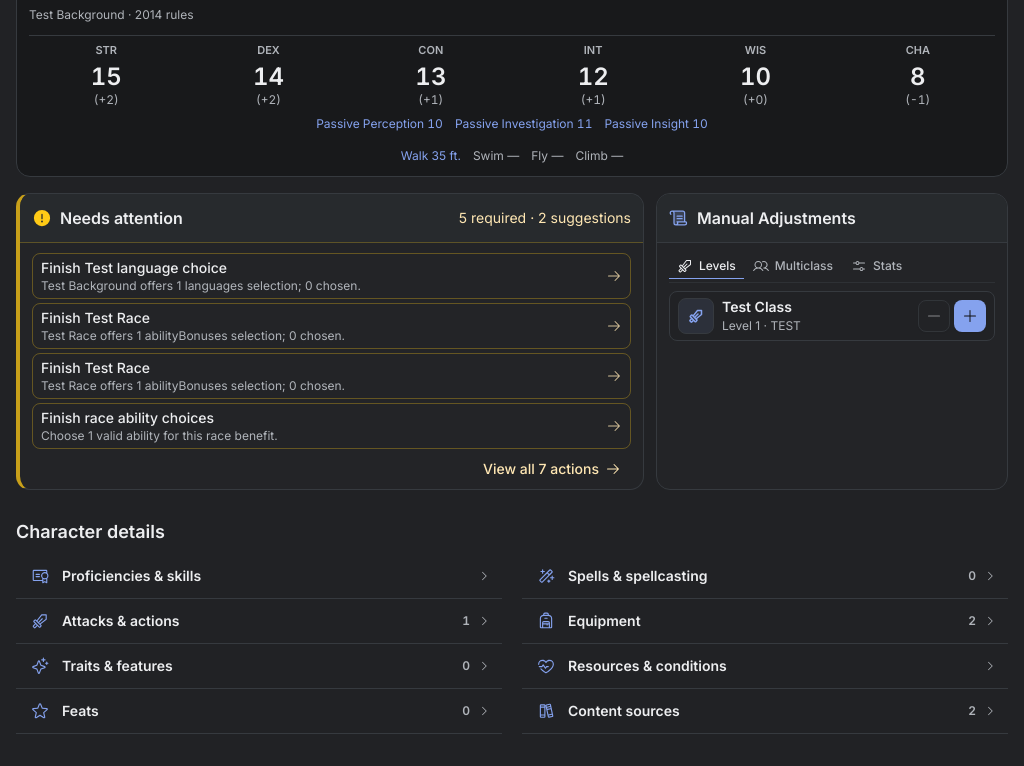
BuildOverviewPage › keeps equipment details source-qualified across catalog removal and restoration
Later steps or results of the test are not shown.
(page scrolled)
Click the text "Equipment" at [587, 621], box [534,609,641,633]
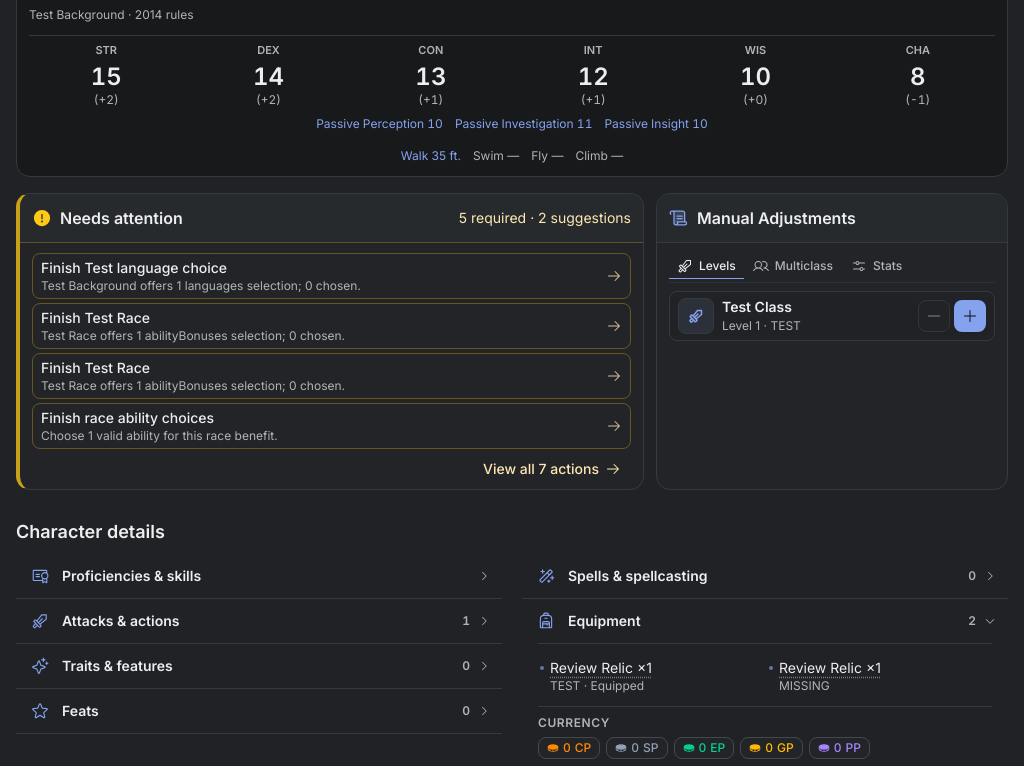
Click the button with aria-label "Review Relic ×1, MISSING" at [830, 668], box [779,658,881,678]
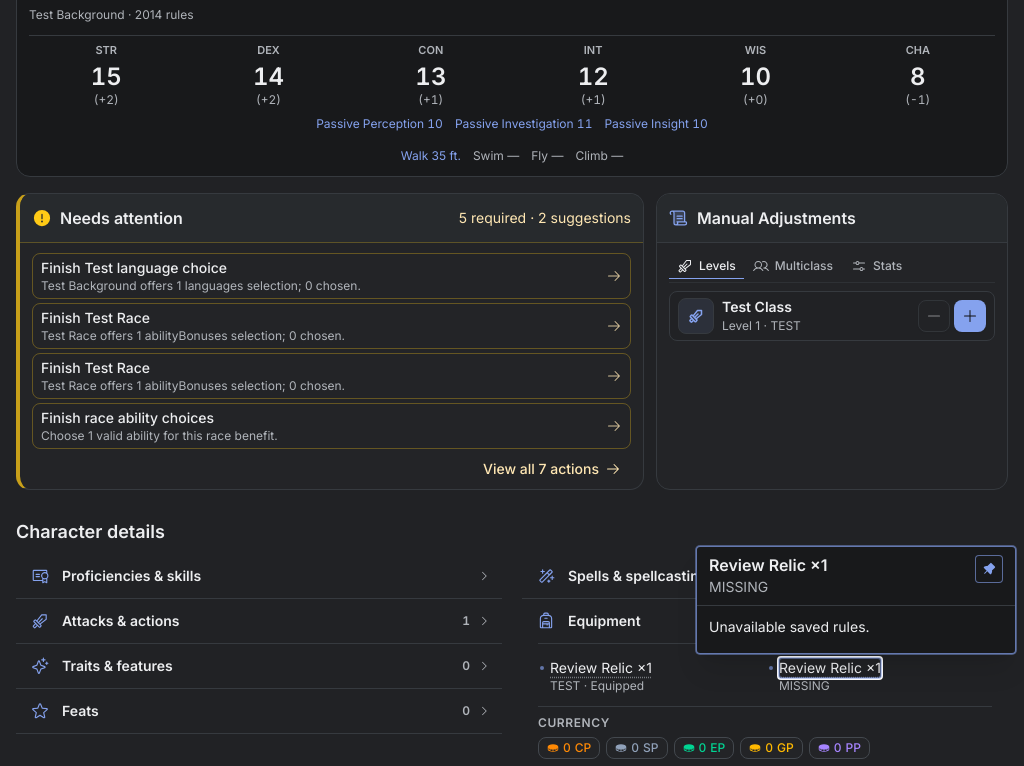
Now the text "Unavailable saved rules." is shown, box [709,618,870,635]
Press Escape
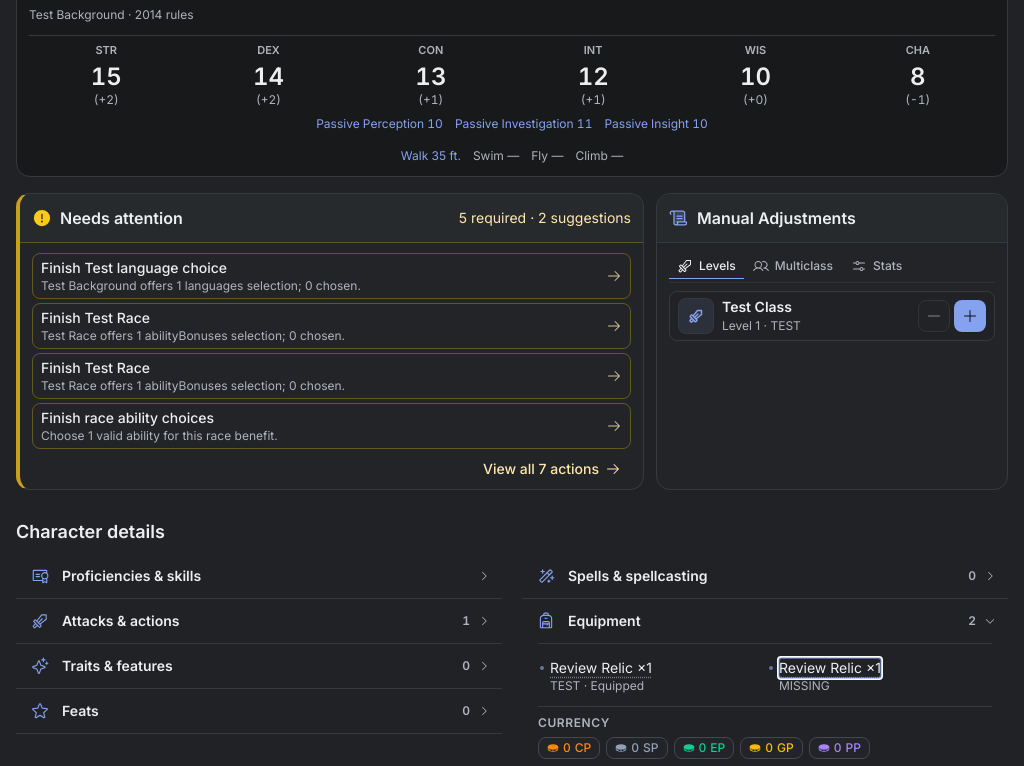
Click the button with aria-label "Review Relic ×1, TEST" at [601, 668], box [550,658,652,678]
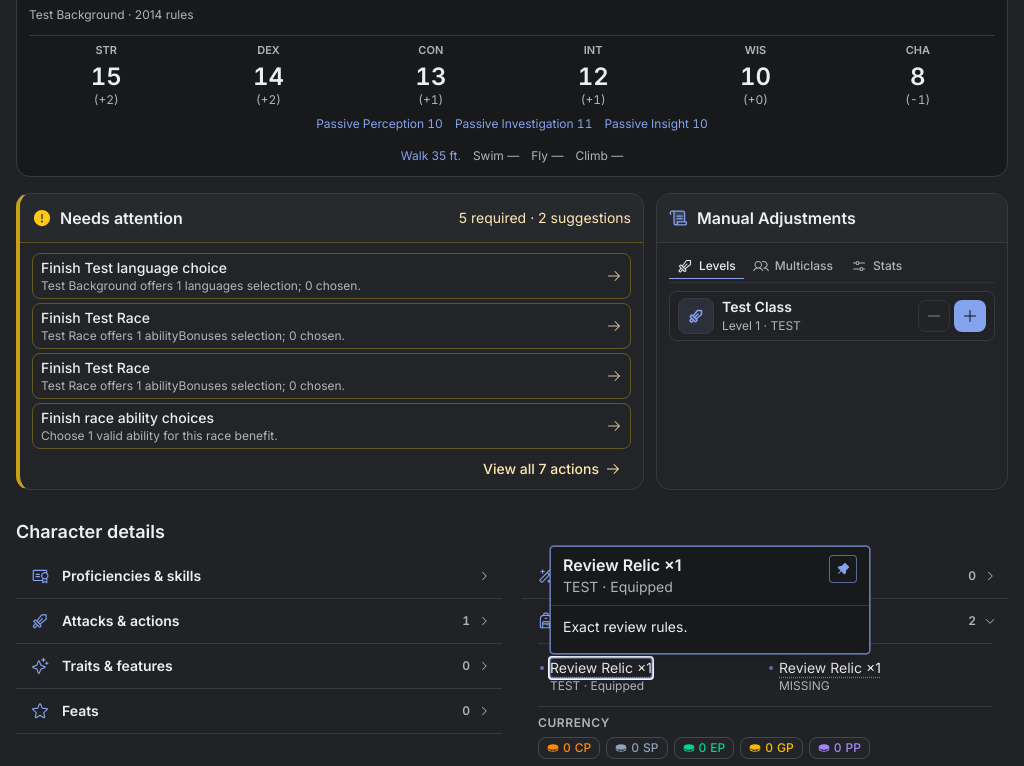
Now the text "Exact review rules." is shown, box [563,618,688,635]
